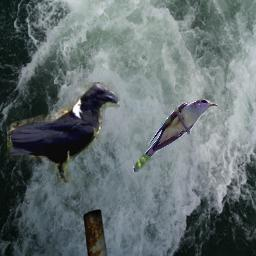Crow: (7, 82, 120, 183)
Cuckoo: (133, 99, 217, 172)
